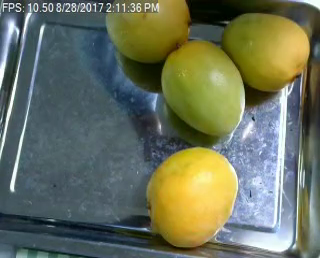Mango: (147, 146, 238, 246), (160, 40, 242, 136), (222, 14, 308, 88), (103, 2, 190, 60)
